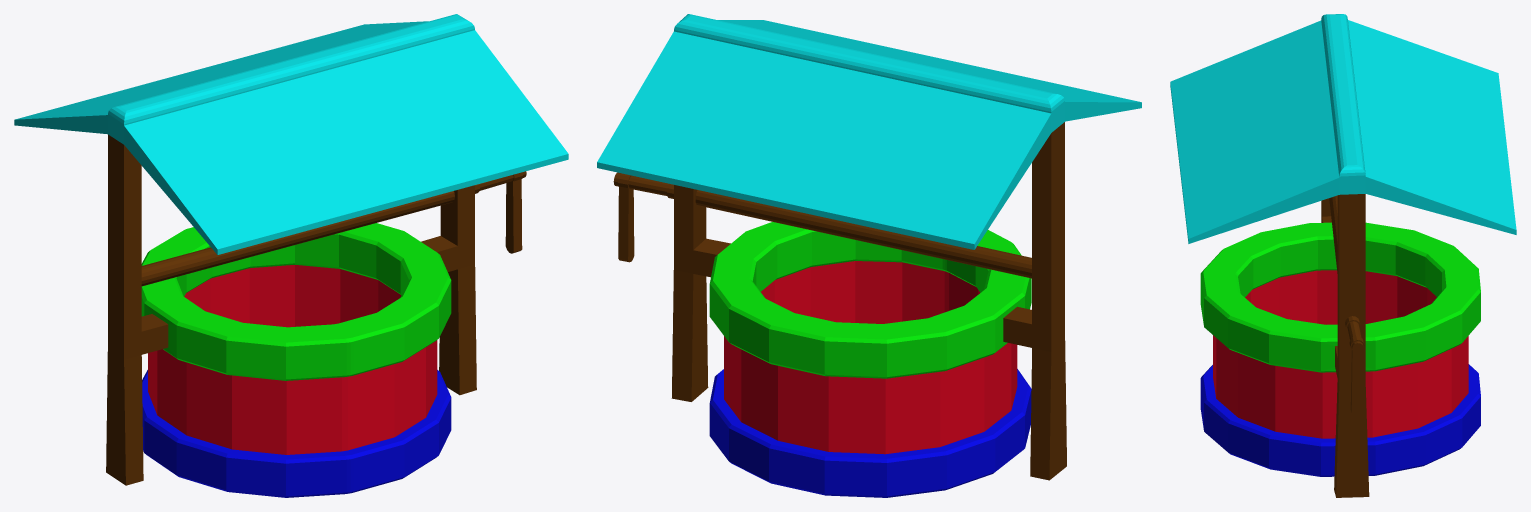
The model's file is Well.fbx.
3 renders of one model, left to right at view 1: azimuth 30°, elevation 25°; view 2: azimuth 150°, elevation 25°; view 3: azimuth 270°, elevation 25°, orthographic. The views are drawn at different scales.
Parts seen in each view (by area): view 1: Cube; view 2: Cube; view 3: Cube.
Boxes of the visible parts, box(x1,y1,x2,y2) form: Cube: box(14, 14, 568, 497); Cube: box(597, 14, 1141, 497); Cube: box(1170, 14, 1516, 497).
Bounding box in the file's own units: 2349 × 1921 × 1833.
